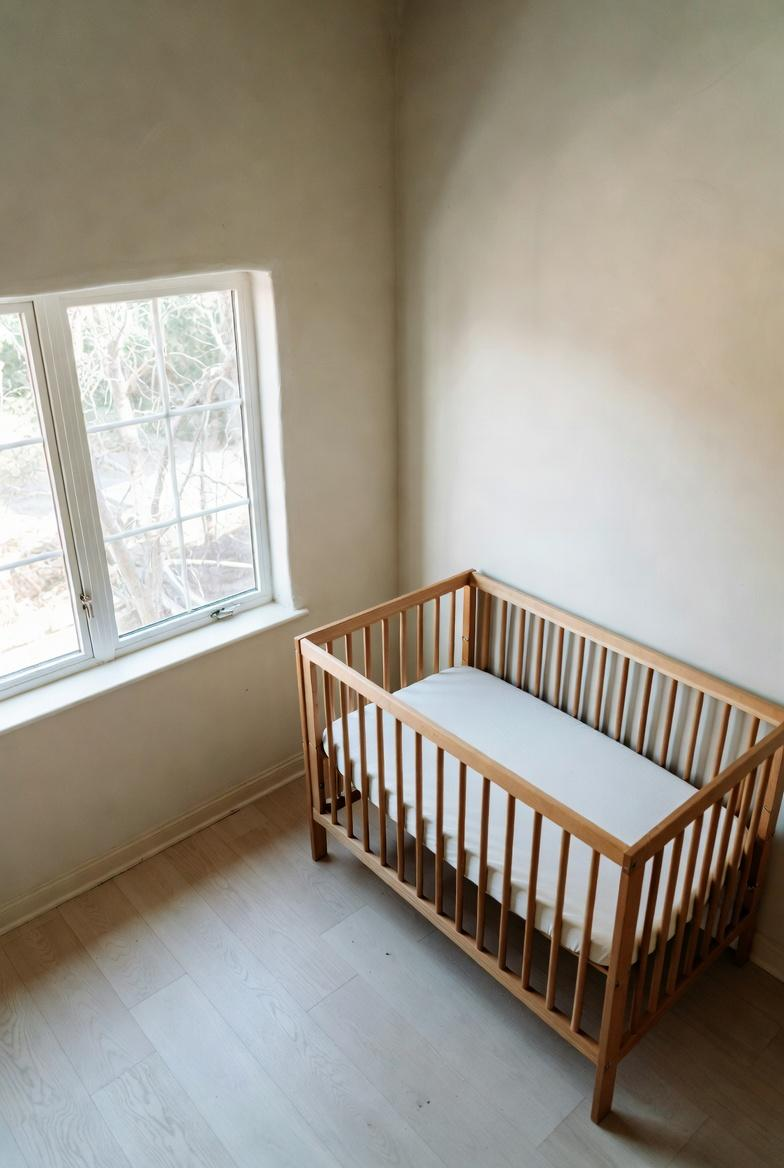crib: (297, 572, 784, 1122)
